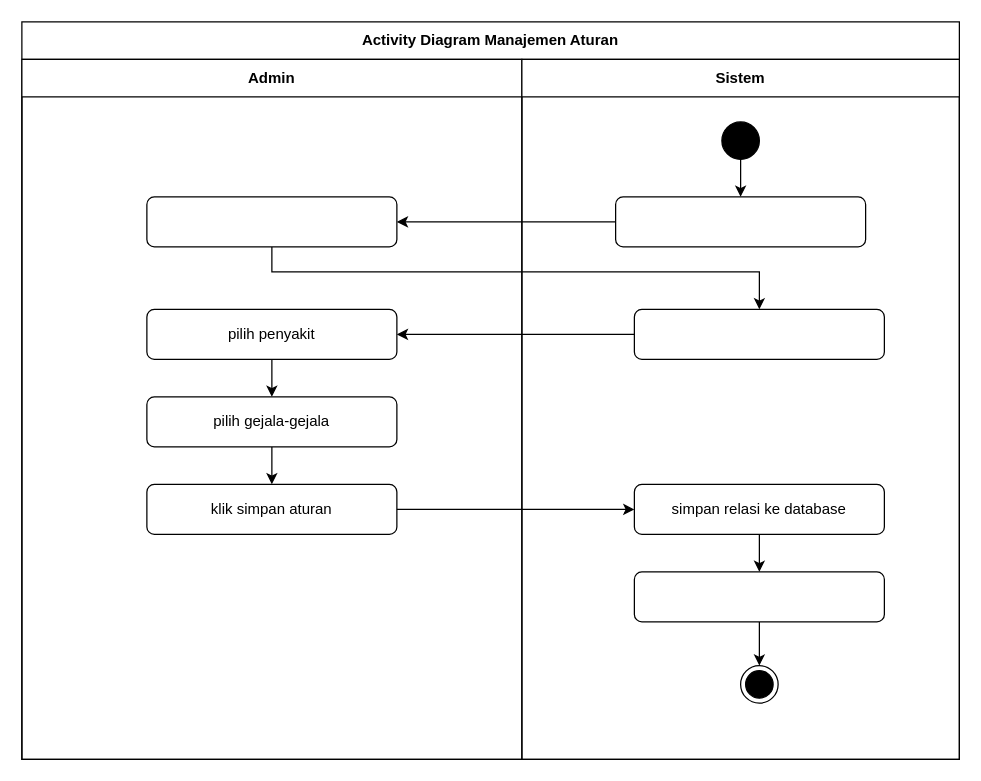
The diagram is 981 pixels wide and 781 high, and some of its shapes have lost their labels. The shapes that lost their labels are listed below. From the top down, each one's box as (x1, y1, x2, y2) in pixels, then its label:
(146, 196, 397, 247): pilih menu aturan
(614, 196, 866, 247): Tampil Beranda
(633, 308, 884, 359): tampil halaman aturan
(633, 571, 884, 622): aturan berhasil diperbarui
